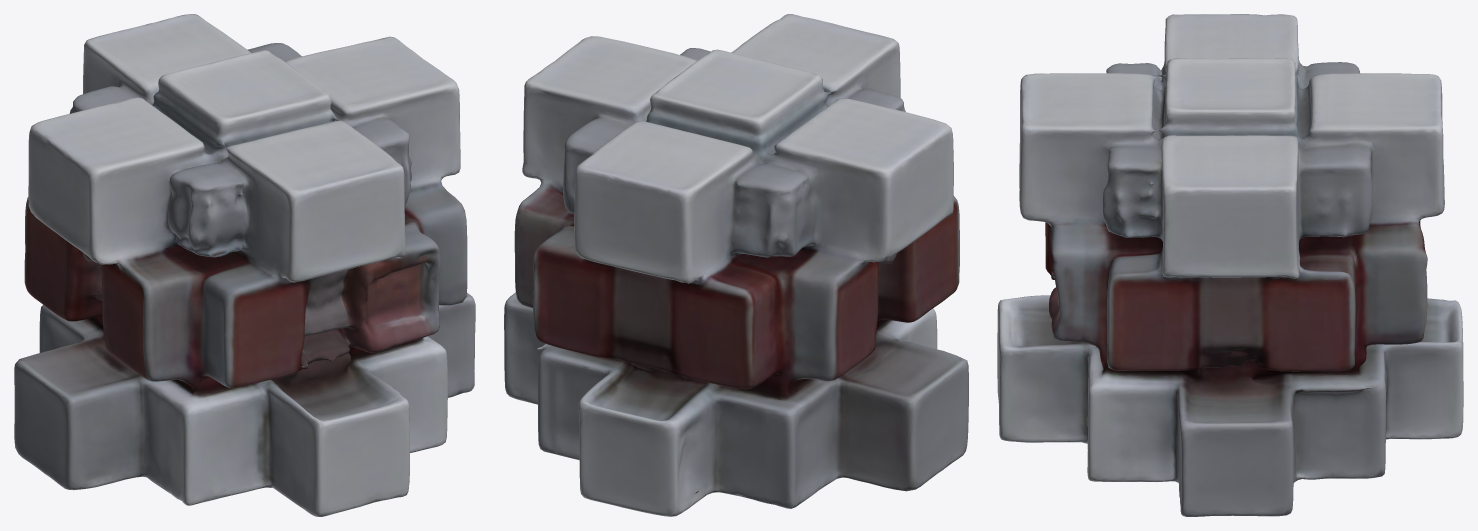
Rendered from e4e401e2106d_cubes__3d_asset_0_g.fbx.
3 views of the same model, side by side, from view 1: azimuth 30°, elevation 25°; view 2: azimuth 150°, elevation 25°; view 3: azimuth 270°, elevation 25° (orthographic).
Visible parts, largest first — view 1: high_poly; view 2: high_poly; view 3: high_poly.
Boxes of the visible parts, x1,y1,x2,y2 form: high_poly: (14,14,475,516); high_poly: (504,14,968,516); high_poly: (997,14,1463,516).
Bounding box in the file's own units: 100 × 79.06 × 98.82.
